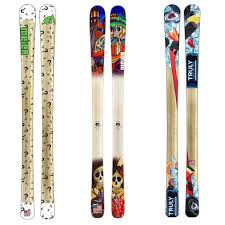skis: (17, 3, 58, 222), (162, 4, 201, 219), (89, 4, 128, 218)
